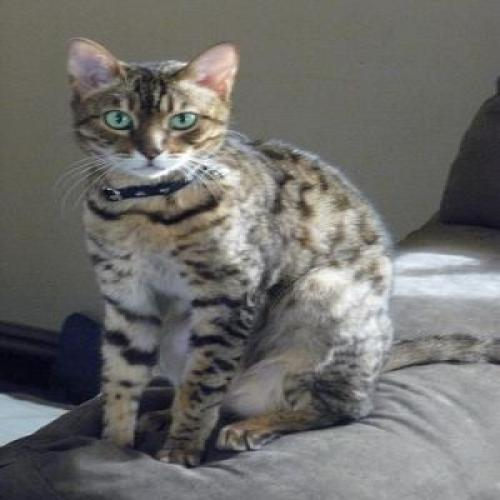bengal: (50, 22, 254, 191)
